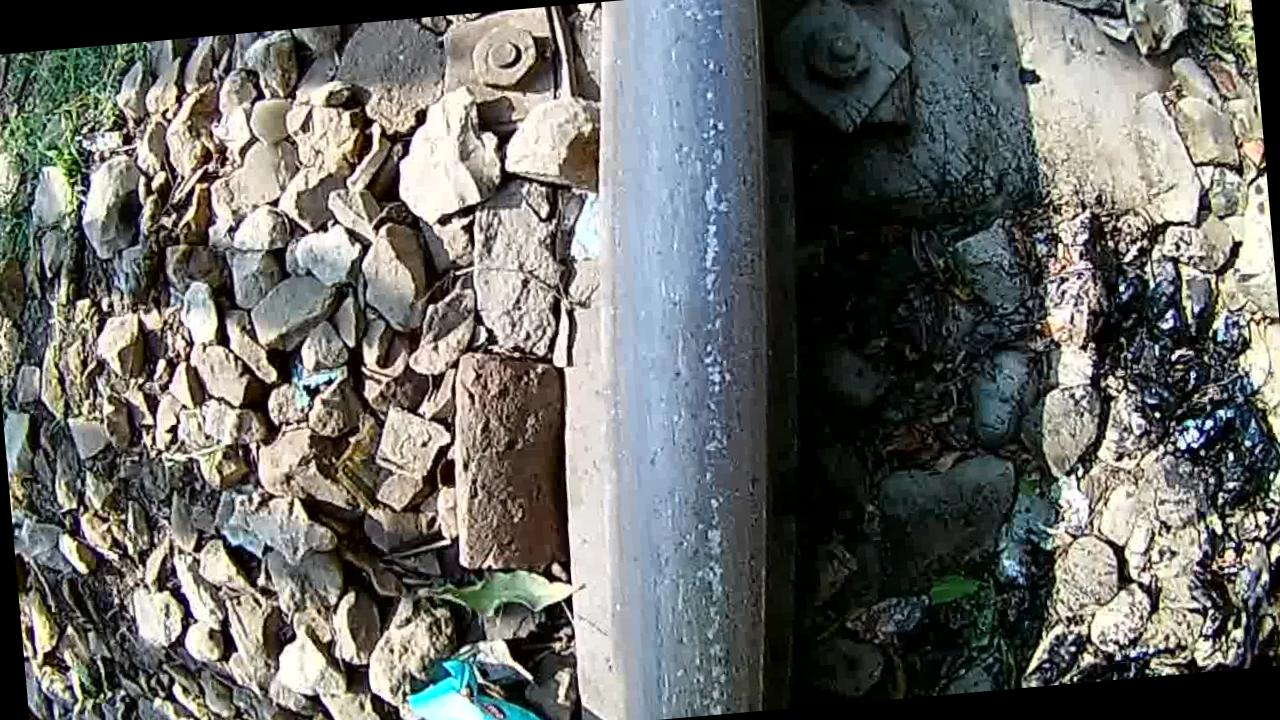clip_missing: (579, 0, 831, 720)
